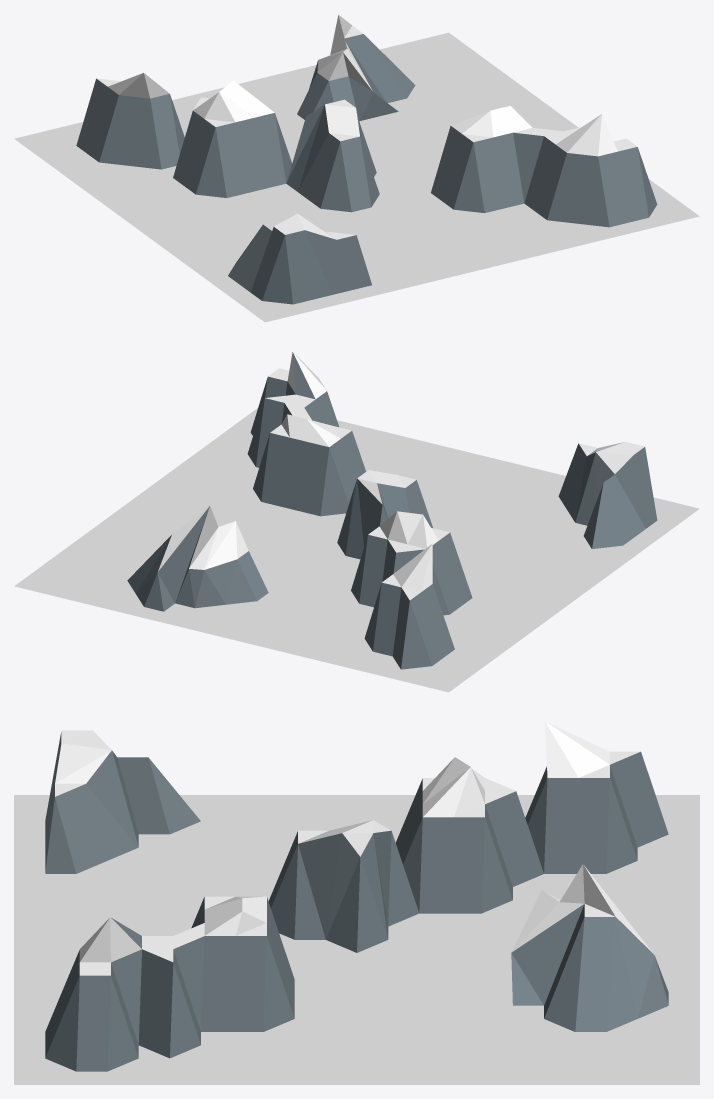
Rendered from Snowland.fbx.
The picture shows the model from 3 angles, top to bottom: view 1: azimuth 30°, elevation 25°; view 2: azimuth 150°, elevation 25°; view 3: azimuth 270°, elevation 25°; orthographic projection. The views are drawn at different scales.
Parts seen in each view (by area): view 1: Plane; view 2: Plane; view 3: Plane.
Boxes of the visible parts, x1,y1,x2,y2 form: Plane: (14, 14, 699, 322); Plane: (14, 352, 699, 692); Plane: (14, 721, 699, 1084).
Size of the model in its own units: 20000 by 4051 by 20000.
